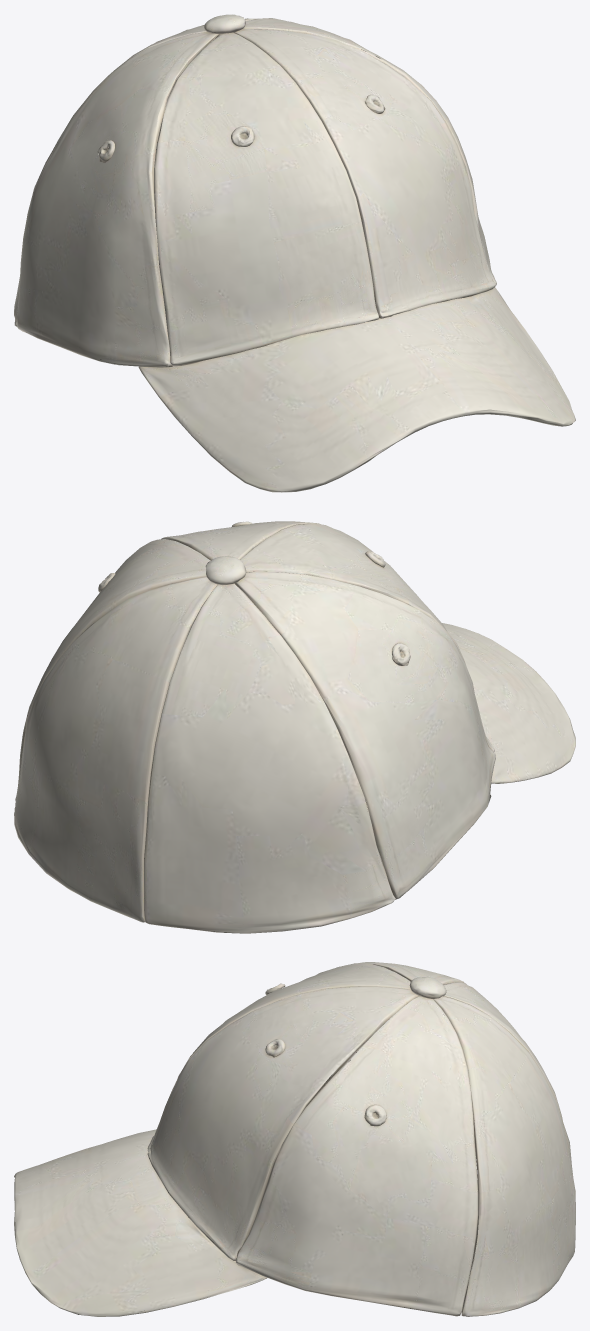
Rendered from bone.glb.
The picture shows the model from 3 angles, top to bottom: view 1: azimuth 30°, elevation 25°; view 2: azimuth 150°, elevation 25°; view 3: azimuth 270°, elevation 25°; orthographic projection. The views are drawn at different scales.
Visible parts, largest first — view 1: geometry_0; view 2: geometry_0; view 3: geometry_0.
Part boxes in pixels (box(x1,y1,x2,y2)): geometry_0: box(14, 14, 575, 492); geometry_0: box(14, 521, 575, 933); geometry_0: box(14, 962, 575, 1316).
Size of the model in its own units: 0.7021 by 0.5132 by 0.9521.
1 material, 1 textured.
